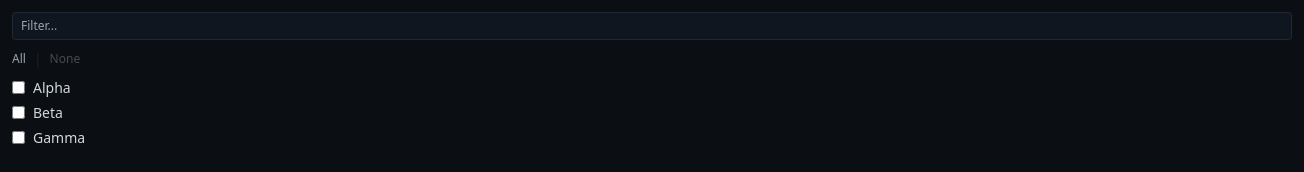
Test case: CheckboxGroup — filterable › All and None are both disabled when the filter matches nothing
Type "zzz" into the field with placeholder "Filter...". click: [652, 26]
box: x1=12 y1=12 x2=1292 y2=40
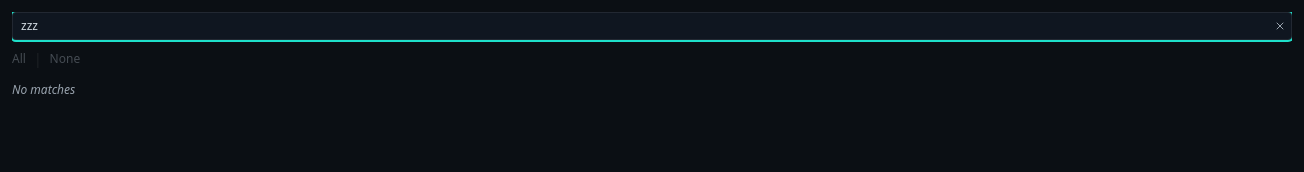
Expected: the button "None" is disabled, x1=50 y1=48 x2=80 y2=69
Expected: the button "All" is disabled, x1=12 y1=48 x2=26 y2=69
